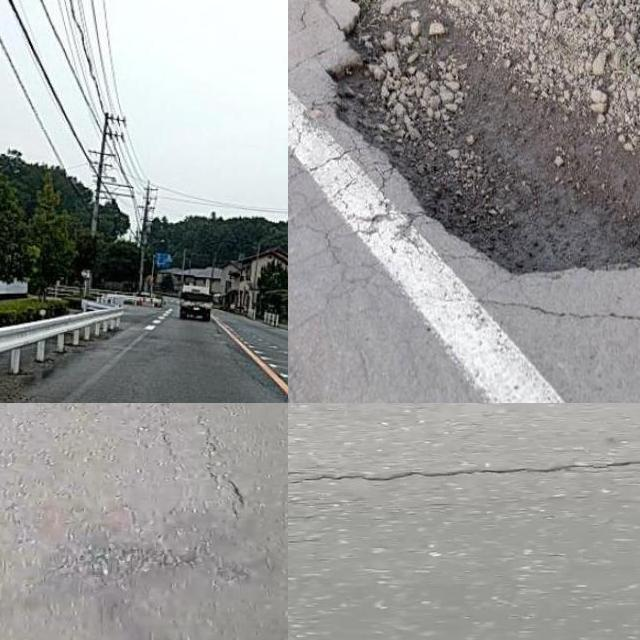Melintang: (288, 447, 640, 499)
Pinggir: (330, 0, 640, 285)
